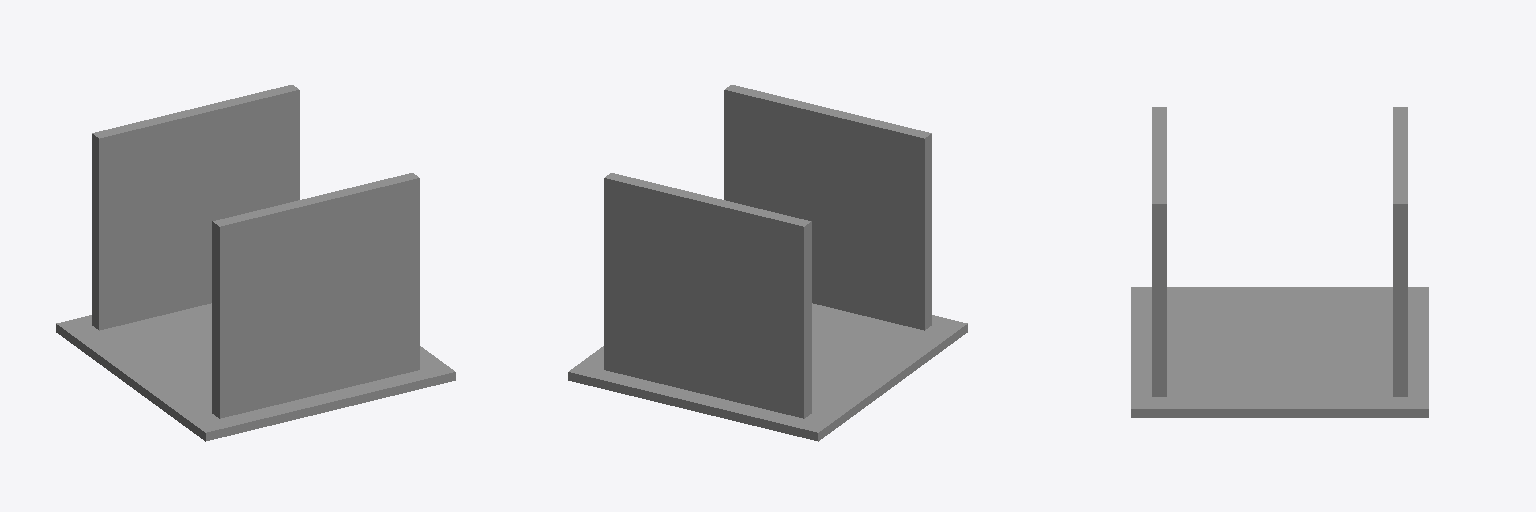
The model's file is turret_clamp.obj.
3 renders of one model, left to right at view 1: azimuth 30°, elevation 25°; view 2: azimuth 150°, elevation 25°; view 3: azimuth 270°, elevation 25°, orthographic.
Parts seen in each view (by area): view 1: Clamp_Cube; view 2: Clamp_Cube; view 3: Clamp_Cube.
Boxes of the visible parts, x1,y1,x2,y2 form: Clamp_Cube: [56, 85, 455, 441]; Clamp_Cube: [568, 85, 967, 441]; Clamp_Cube: [1131, 107, 1428, 417].
Bounding box in the file's own units: 1.2 × 0.9181 × 1.24.